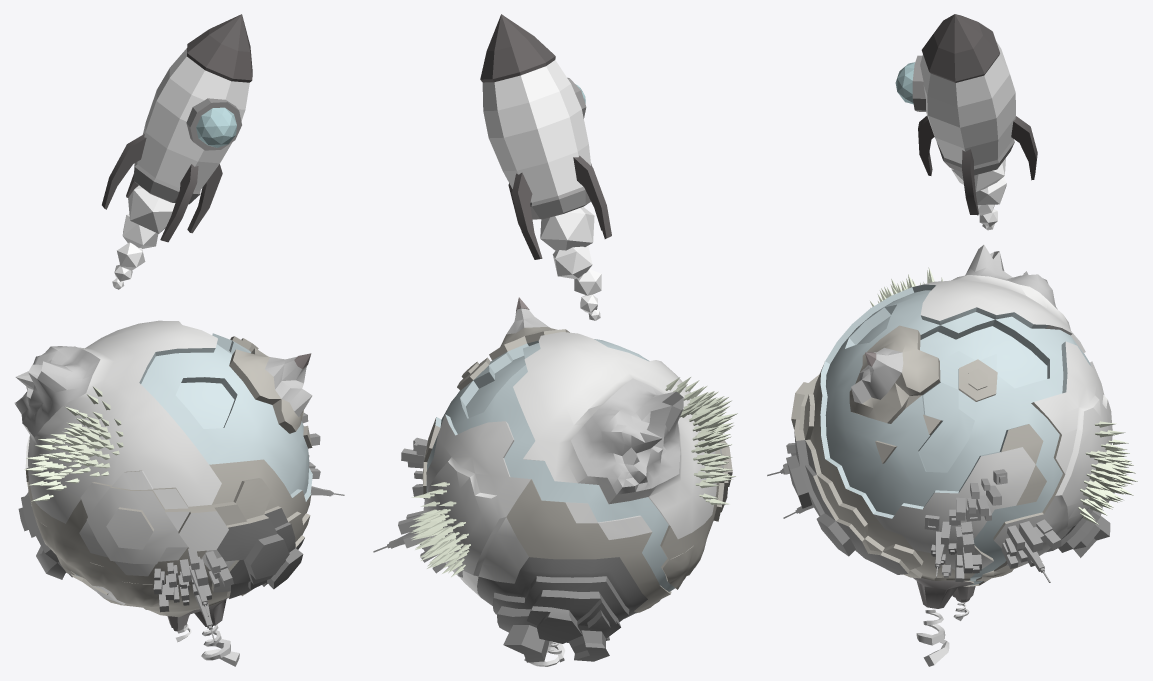
Rendered from rocket13.glb.
The picture shows the model from 3 angles, left to right: view 1: azimuth 30°, elevation 25°; view 2: azimuth 150°, elevation 25°; view 3: azimuth 270°, elevation 25°; orthographic projection. The views are drawn at different scales.
Visible parts, largest first — view 1: Grass, Ground, Water, Rocket_Ship_01_Material_#27_0, Rocket_Ship_01_Material_#28_0, Rocky_Mountains, Mountains, Forest, City, Rocket_Ship_01_Material_#42_0, Rocket_Ship_01_Material_#29_0, Rocket_Ship_01_Material_#30_0 (+2 smaller); view 2: Grass, Rocky_Mountains, Ground, Rocket_Ship_01_Material_#27_0, Water, Mountains, Forest, Rocket_Ship_01_Material_#28_0, Rocket_Ship_01_Material_#42_0, City, Rocket_Ship_01_Material_#29_0; view 3: Water, Grass, Ground, Rocket_Ship_01_Material_#27_0, Rocket_Ship_01_Material_#28_0, City, Rocky_Mountains, Mountains, Forest, Rocket_Ship_01_Material_#42_0, Volcano, Rocket_Ship_01_Material_#29_0 (+2 smaller).
Part boxes in pixels (<box>): Grass: <box>23,320,235,604</box>; Ground: <box>25,336,312,617</box>; Water: <box>76,333,312,576</box>; Rocket_Ship_01_Material_#27_0: <box>137,48,249,190</box>; Rocket_Ship_01_Material_#28_0: <box>102,14,252,242</box>; Rocky_Mountains: <box>18,492,304,598</box>; Mountains: <box>14,346,312,437</box>; Forest: <box>24,386,123,501</box>; City: <box>153,413,344,641</box>; Rocket_Ship_01_Material_#42_0: <box>112,185,175,289</box>; Rocket_Ship_01_Material_#29_0: <box>133,98,241,204</box>; Rocket_Ship_01_Material_#30_0: <box>196,107,236,147</box>; Grass: <box>423,332,724,601</box>; Rocky_Mountains: <box>477,557,647,662</box>; Ground: <box>422,327,732,613</box>; Rocket_Ship_01_Material_#27_0: <box>482,60,591,202</box>; Water: <box>426,339,674,591</box>; Mountains: <box>506,308,683,494</box>; Forest: <box>409,377,737,577</box>; Rocket_Ship_01_Material_#28_0: <box>480,14,611,259</box>; Rocket_Ship_01_Material_#42_0: <box>540,207,601,320</box>; City: <box>373,437,446,573</box>; Rocket_Ship_01_Material_#29_0: <box>530,77,590,219</box>; Water: <box>820,284,1090,585</box>; Grass: <box>873,275,1112,570</box>; Ground: <box>791,325,1065,586</box>; Rocket_Ship_01_Material_#27_0: <box>920,41,1015,165</box>; Rocket_Ship_01_Material_#28_0: <box>918,14,1037,215</box>; City: <box>767,443,1061,582</box>; Rocky_Mountains: <box>786,432,1114,574</box>; Mountains: <box>851,245,1057,403</box>; Forest: <box>870,267,1137,524</box>; Rocket_Ship_01_Material_#42_0: <box>951,158,1006,230</box>; Volcano: <box>913,577,975,608</box>; Rocket_Ship_01_Material_#29_0: <box>912,55,1014,175</box>.
Bounding box in the file's own units: 0.2164 × 0.4249 × 0.2161.
